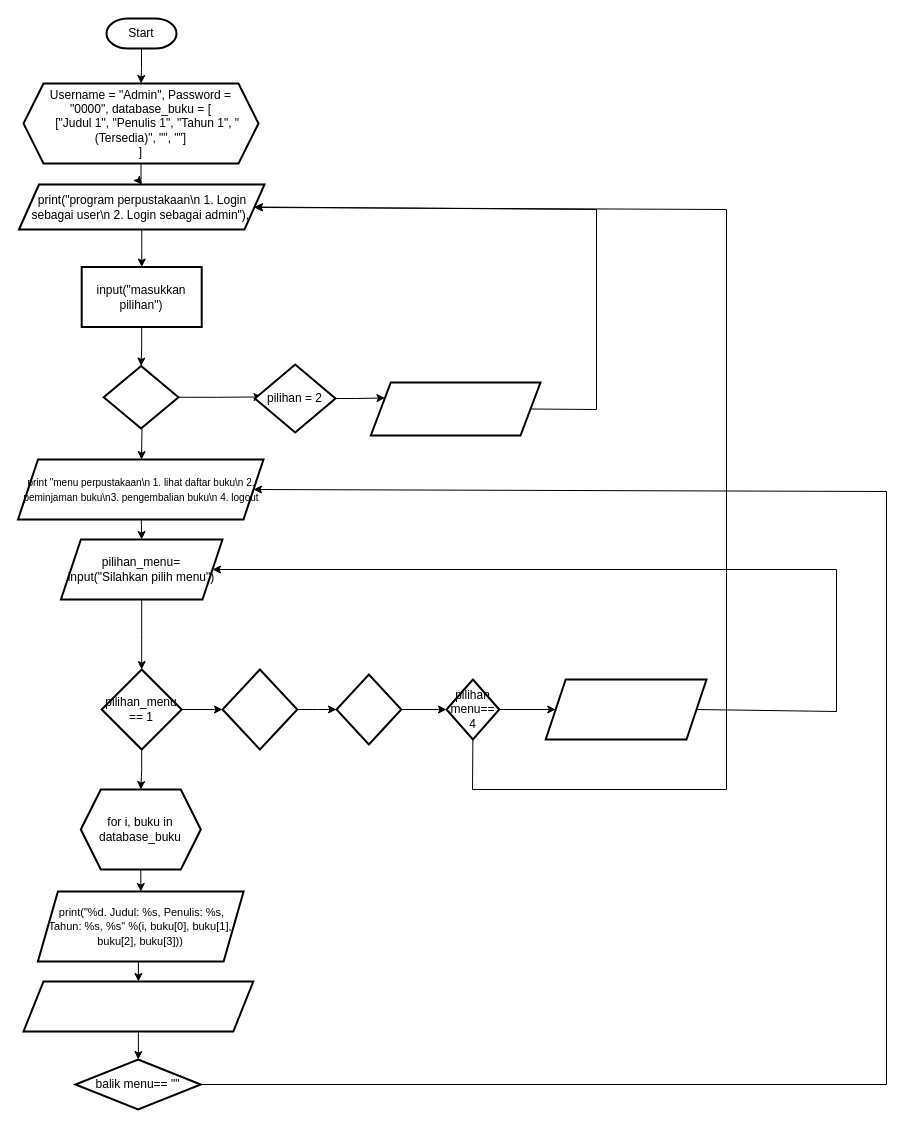
This 912x1127 diagram has some shape labels left out. Here are the shapes that lost their labels. From the top down, the centre of each, then its label:
point 140,396: pilihan == 1
point 455,408: print "pilihan yang anda masukan salah"
point 259,709: pilihan_menu == 2
point 368,709: pilihan_menu == 3
point 625,709: print "nomor yang anda masukkan tidak valid
point 138,1006: balik_menu = input ("silahkan klik enter untuk kembali ke menu"
